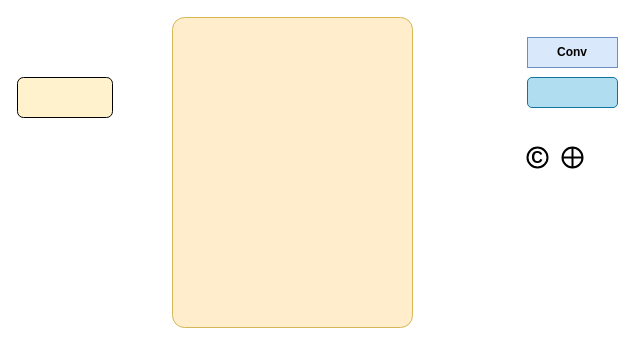
The diagram is 635 pixels wide and 345 high, and some of its shapes have lost their labels. Here are the shapes that lost their labels. From the top down, the centre of each, then its label:
At pixel 64 97: "MDPhysics".
At pixel 572 92: "DConv".
